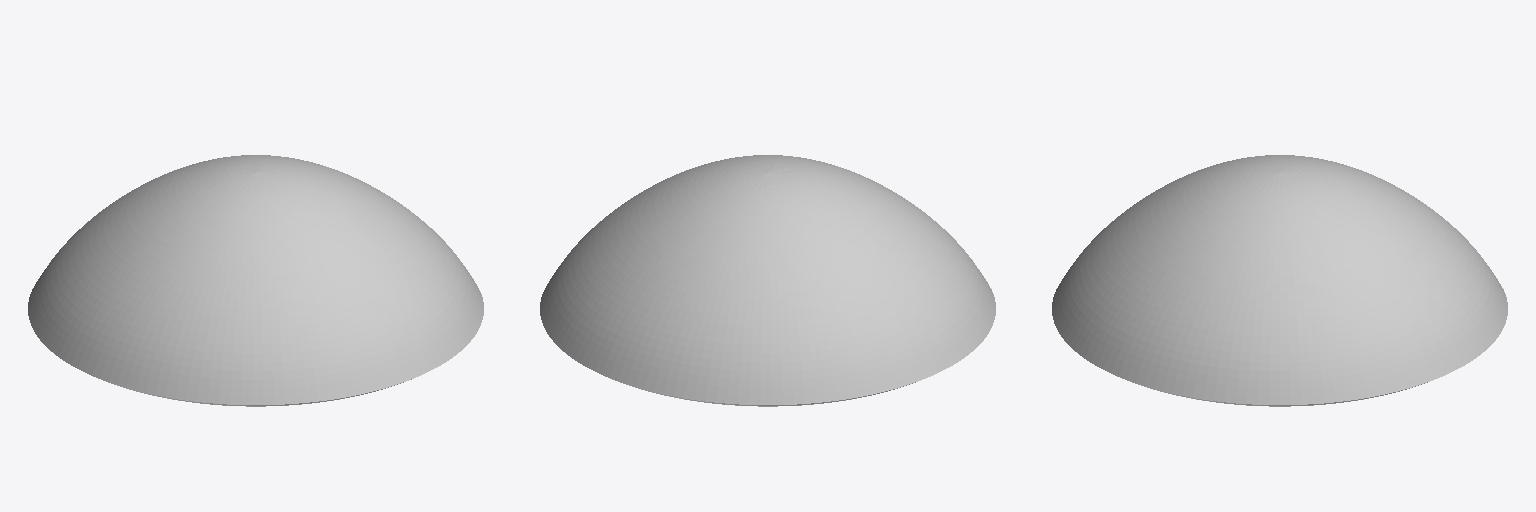
Rendered from newUFO1.obj.
The picture shows the model from 3 angles: view 1: azimuth 30°, elevation 25°; view 2: azimuth 150°, elevation 25°; view 3: azimuth 270°, elevation 25°; orthographic projection.
Size of the model in its own units: 73.63 by 29.65 by 73.63.